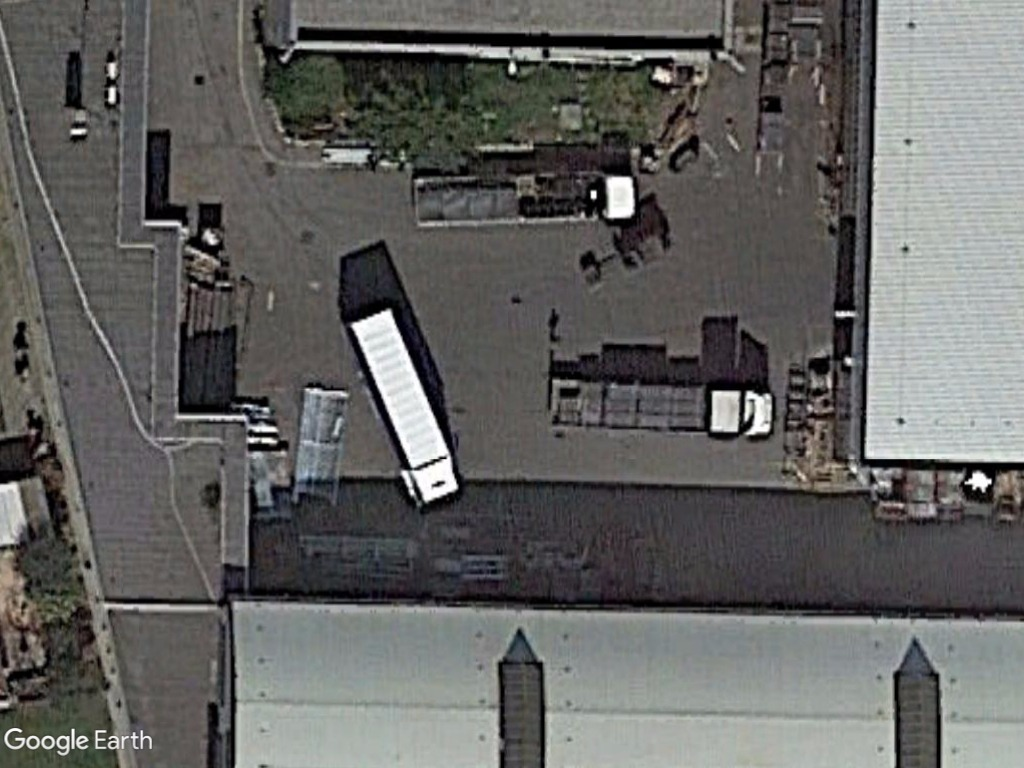longvehicle: (341, 301, 465, 513)
other: (543, 368, 780, 443), (406, 168, 641, 228)
